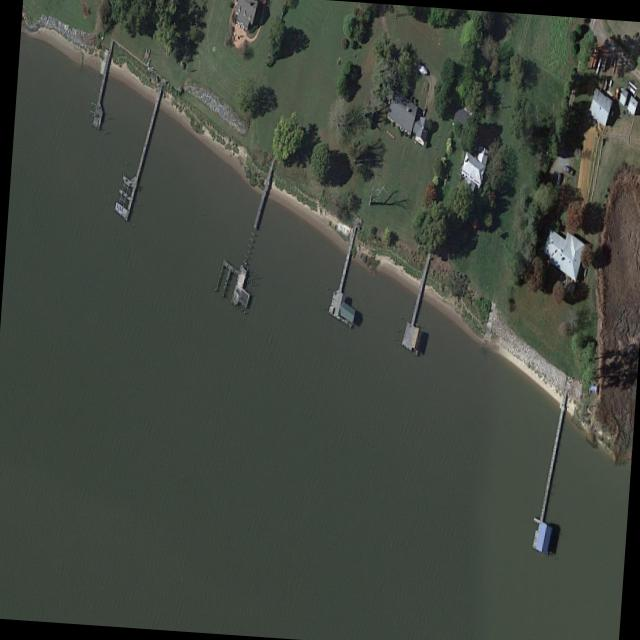ship: (416, 64, 426, 77)
small-vehicle: (561, 163, 573, 177)
